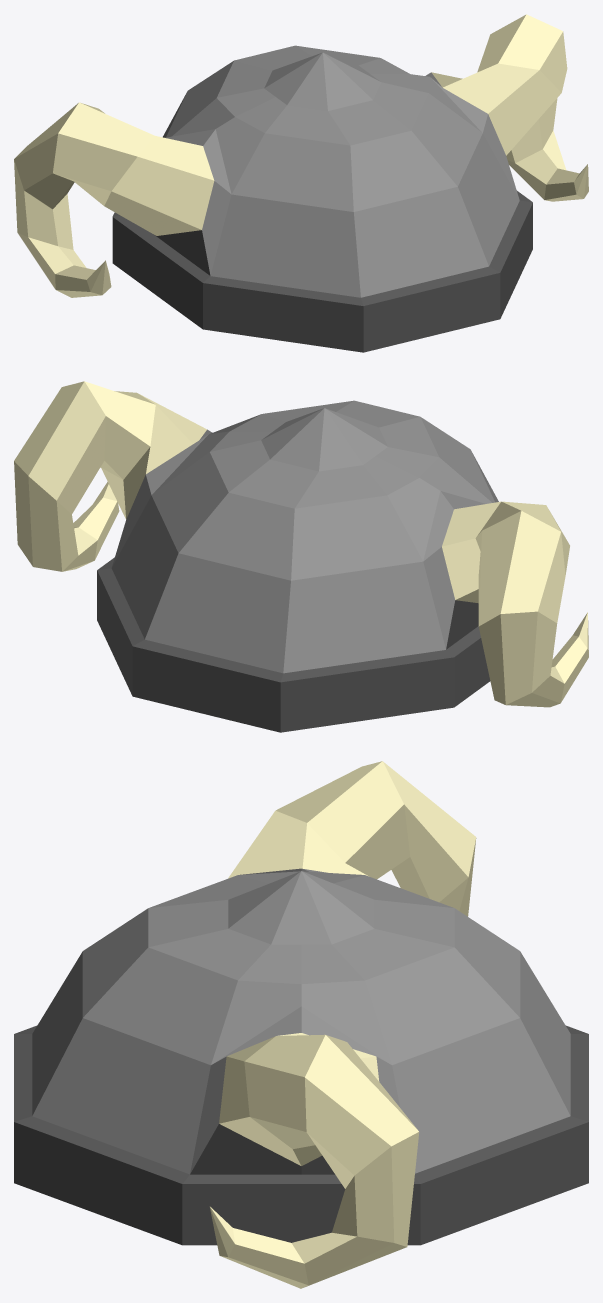
The model's file is helmet.fbx.
The picture shows the model from 3 angles, top to bottom: view 1: azimuth 30°, elevation 25°; view 2: azimuth 150°, elevation 25°; view 3: azimuth 270°, elevation 25°; orthographic projection. The views are drawn at different scales.
Parts seen in each view (by area): view 1: Circle; view 2: Circle; view 3: Circle.
Boxes of the visible parts, x1,y1,x2,y2 form: Circle: [14, 14, 588, 352]; Circle: [14, 381, 588, 732]; Circle: [14, 761, 588, 1288].
Bounding box in the file's own units: 133 × 51.52 × 98.09.
